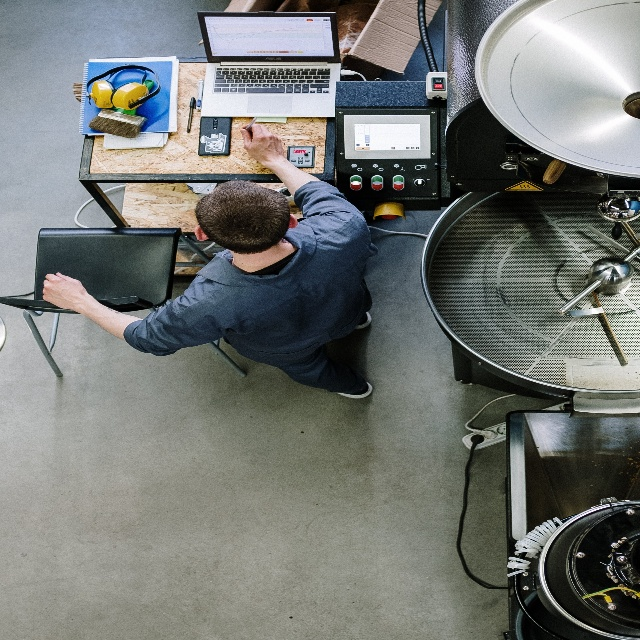Sin_guantes: (41, 271, 86, 320), (240, 120, 285, 166)
